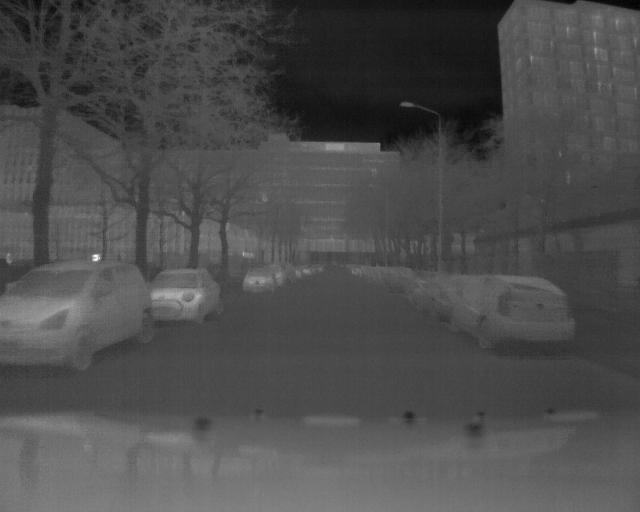car: (1, 257, 156, 372), (449, 272, 576, 353), (144, 265, 226, 322), (239, 266, 280, 294)
